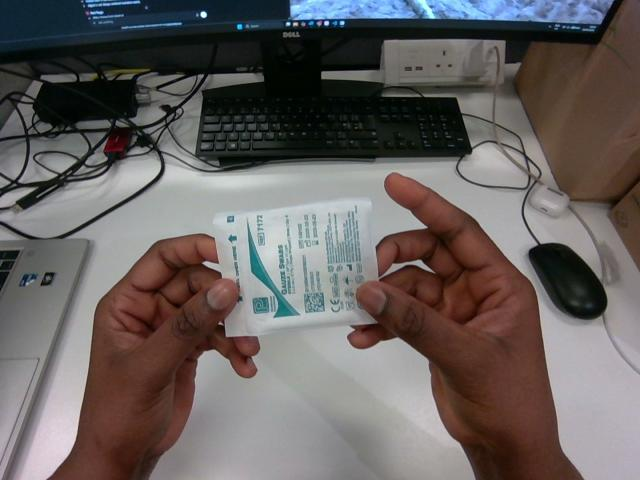gauze: (213, 198, 377, 336)
